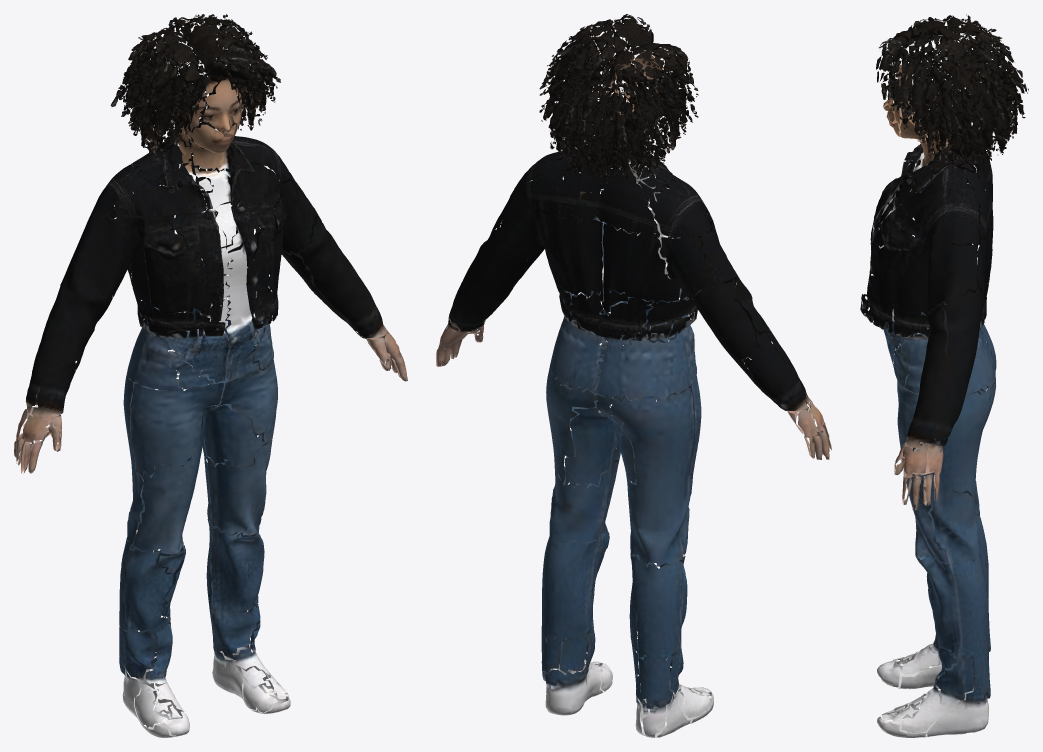
Rendered from woman.glb.
The picture shows the model from 3 angles, left to right: view 1: azimuth 30°, elevation 25°; view 2: azimuth 150°, elevation 25°; view 3: azimuth 270°, elevation 25°; orthographic projection.
Bounding box in the file's own units: 1.12 × 1.9 × 0.4231.
1 material, 1 textured.
